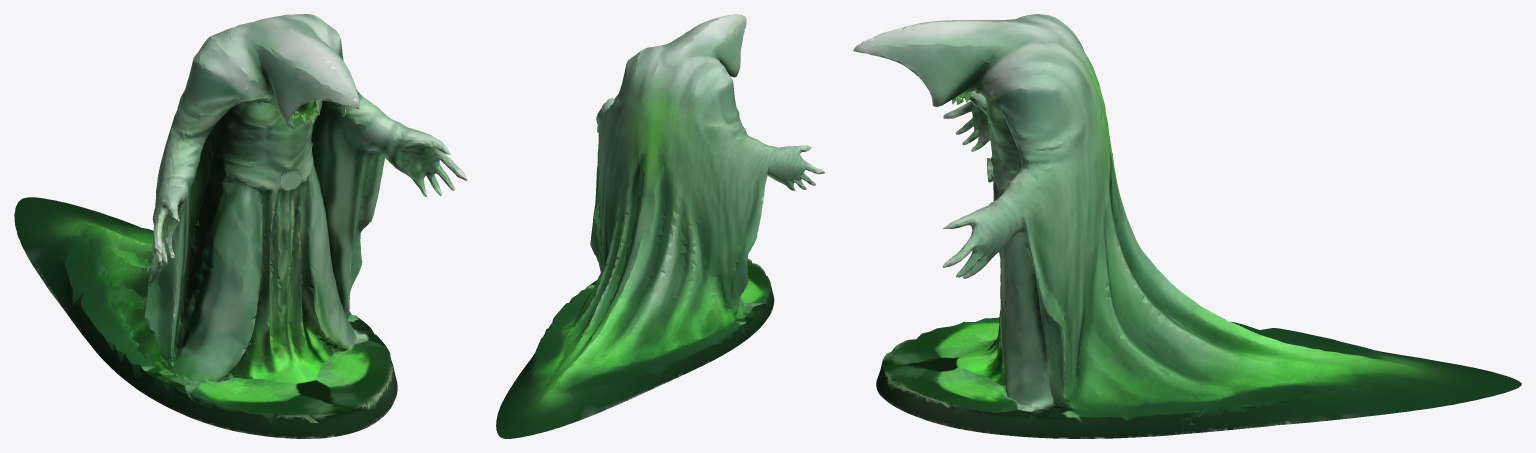
File: fragmentado.glb
3 views of the same model, side by side, from view 1: azimuth 30°, elevation 25°; view 2: azimuth 150°, elevation 25°; view 3: azimuth 270°, elevation 25° (orthographic). The views are drawn at different scales.
Visible parts, largest first — view 1: fragmentado; view 2: fragmentado; view 3: fragmentado.
Part boxes in pixels (left/top/right/bottom): fragmentado: left=14, top=14, right=467, bottom=438; fragmentado: left=496, top=14, right=824, bottom=438; fragmentado: left=853, top=14, right=1521, bottom=438.
Bounding box in the file's own units: 1.01 × 1.13 × 1.89.
Materials: 1 (1 with a texture image).
